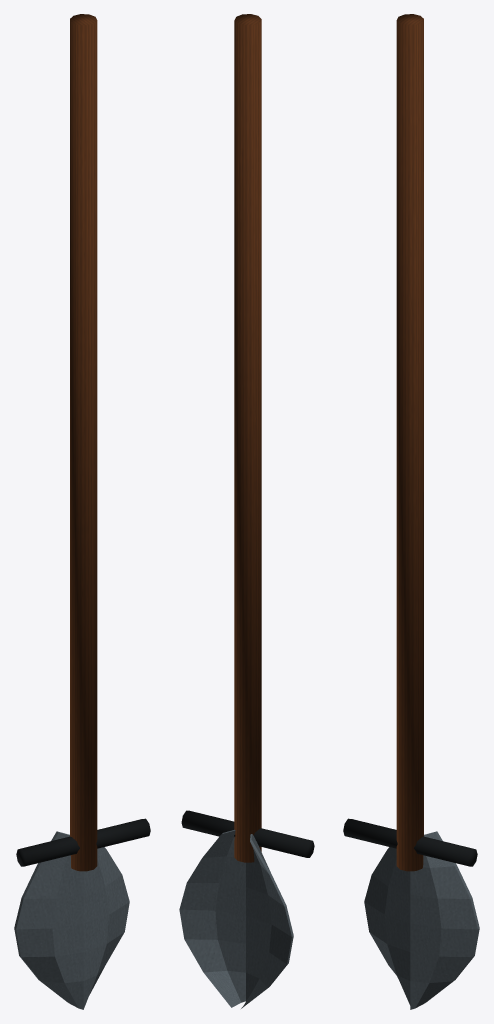
Rendered from RoundPointShovel.gltf.
3 renders of one model, left to right at view 1: azimuth 30°, elevation 25°; view 2: azimuth 150°, elevation 25°; view 3: azimuth 330°, elevation 25°, orthographic.
Parts seen in each view (by area): view 1: RoundPointShovel__Body; view 2: RoundPointShovel__Body; view 3: RoundPointShovel__Body.
Part boxes in pixels (x1,y1,x2,y2): RoundPointShovel__Body: (14, 14, 150, 1009); RoundPointShovel__Body: (179, 14, 314, 1008); RoundPointShovel__Body: (343, 14, 479, 1009).
Bounding box in the file's own units: 0.1904 × 1.44 × 0.0503.
Materials: 1 (1 with a texture image).
